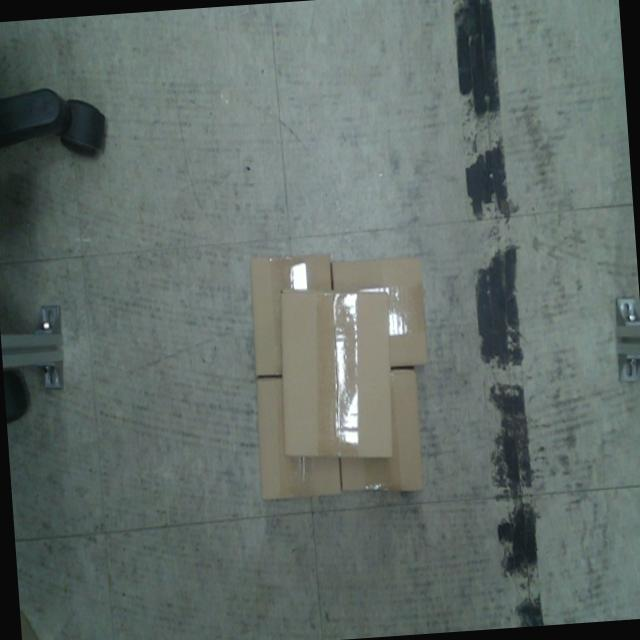box: (277, 284, 398, 464)
